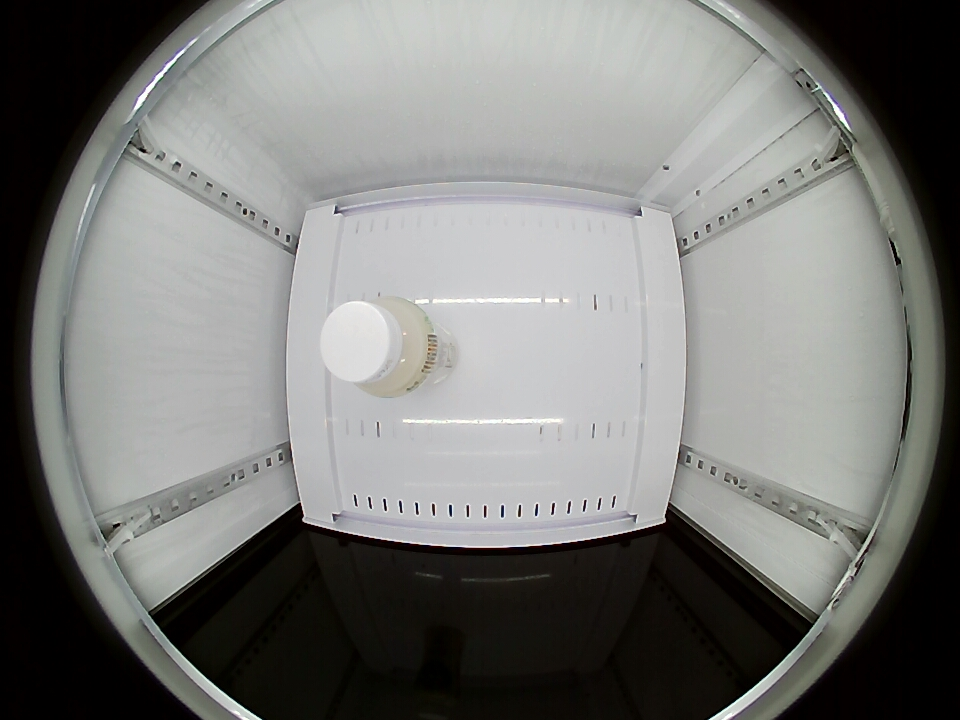yousuanru: (321, 295, 432, 397)
